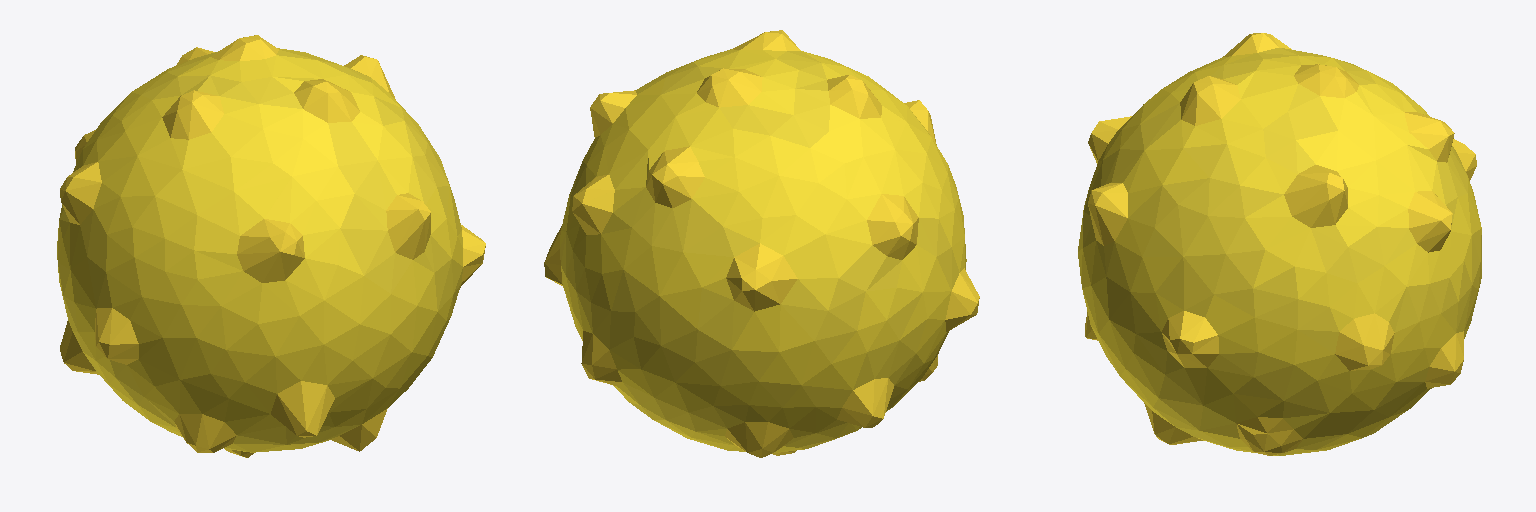
The picture shows the model from 3 angles: view 1: azimuth 30°, elevation 25°; view 2: azimuth 150°, elevation 25°; view 3: azimuth 270°, elevation 25°; orthographic projection.
Visible parts, largest first — view 1: object_10; view 2: object_10; view 3: object_10.
Boxes of the visible parts, <box> form: object_10: <box>57,35,485,457</box>; object_10: <box>544,30,979,457</box>; object_10: <box>1078,33,1481,455</box>.
Size of the model in its own units: 35.74 by 36.5 by 34.12.
2 materials, 1 textured.